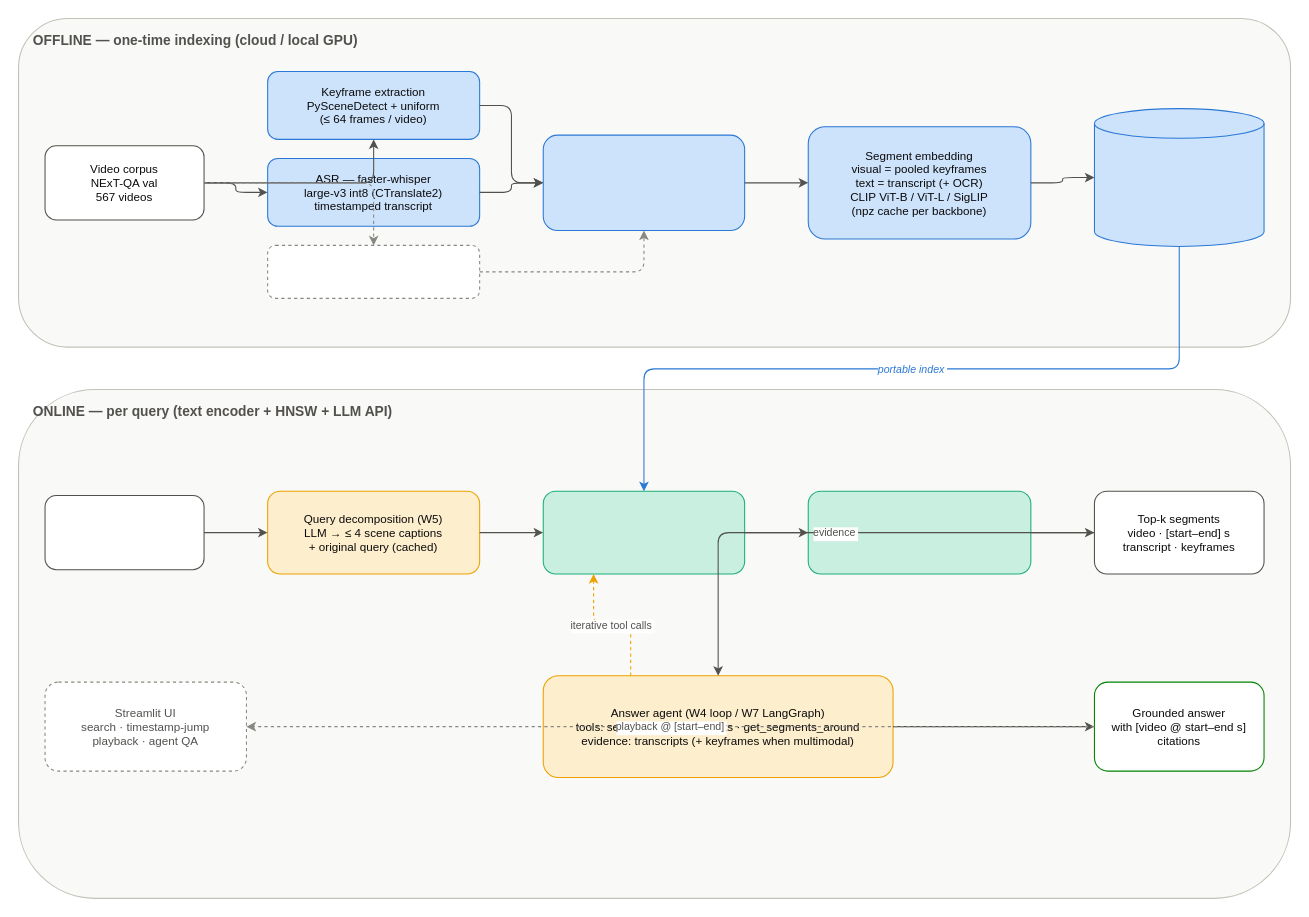
Image size: 1309x917. Some labels were removed from this diagram. Here are the shapes that lost their labels. From the top down, the centre of each, then its label:
(x=643, y=182): Temporal segmentation 8 s window / 4 s stride (overlapping) → 5,725 segments
(x=1178, y=177): ChromaDB HNSW · cosine segments_visual 5,725 segments_text 3,433
(x=373, y=271): OCR — EasyOCR (optional, disabled)
(x=124, y=532): Natural-language query / question
(x=643, y=532): Encode + search per sub-query (HNSW) RRF rank fusion
(x=919, y=532): Visual re-ranking (W6) ViT-L over top-30 weighted RRF
